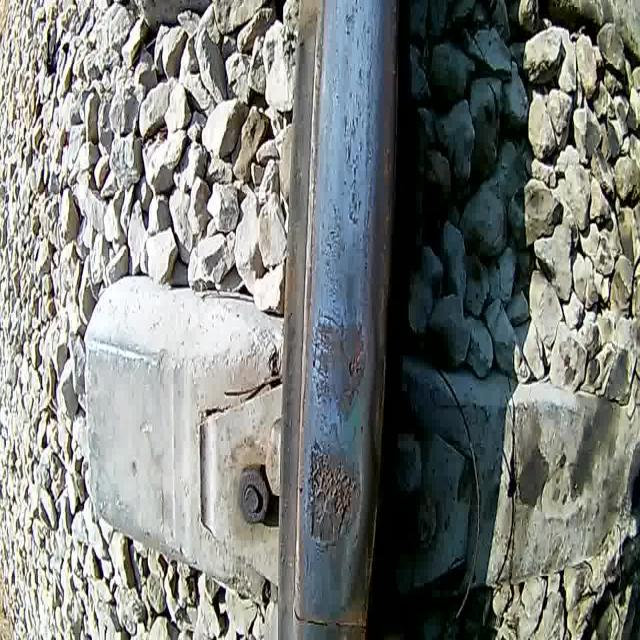Cracks: (310, 310, 346, 378), (312, 537, 342, 566)
Joint: (286, 593, 376, 640)
Spallings: (308, 436, 360, 548), (344, 318, 369, 413), (313, 378, 340, 409)
Squats: (306, 242, 372, 430), (302, 430, 365, 598)
